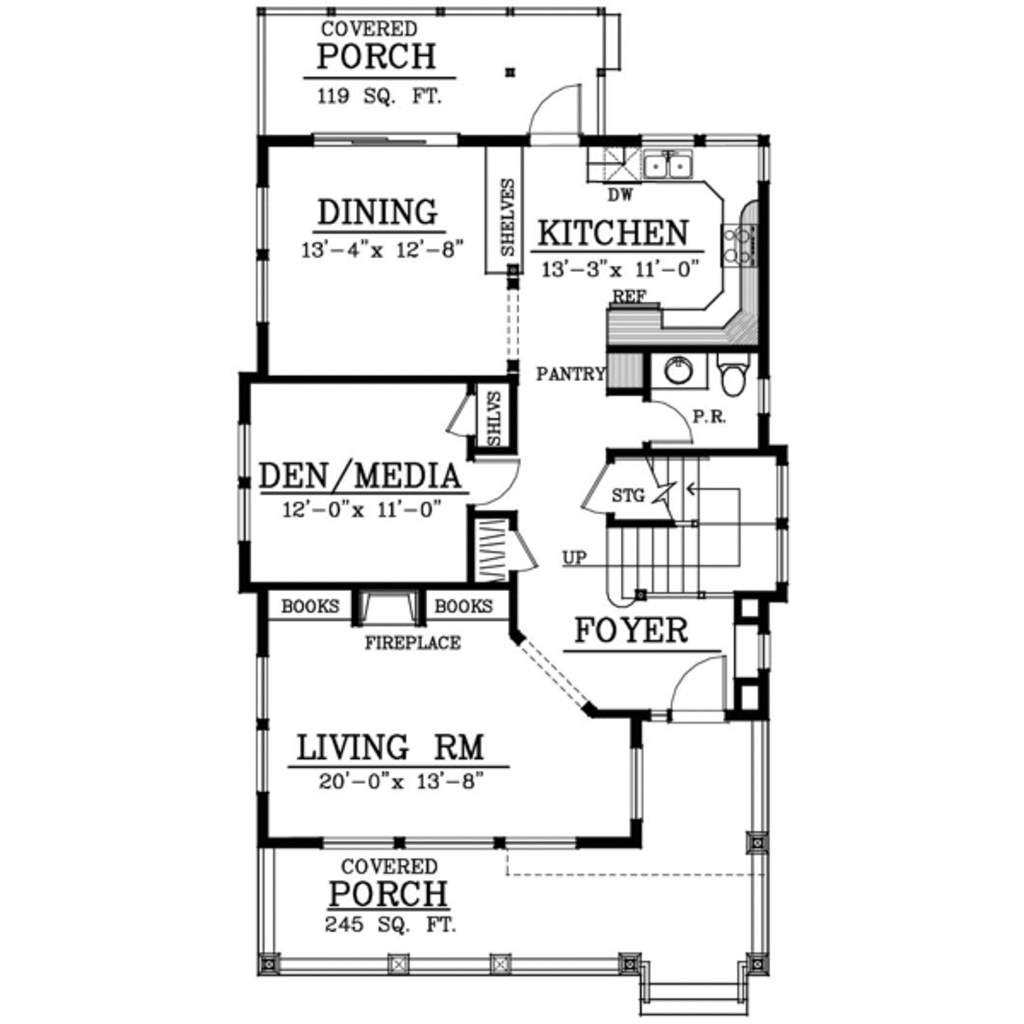door: (659, 644, 733, 727), (511, 87, 586, 143), (579, 465, 640, 517), (637, 400, 695, 446), (467, 455, 522, 501), (441, 390, 483, 439), (503, 528, 543, 574)
large_sink: (708, 349, 757, 403)
small_sink: (652, 355, 706, 393)
stairs: (602, 447, 770, 608)
twin_sink: (635, 144, 700, 184)
window: (319, 832, 573, 855), (249, 655, 273, 792), (233, 416, 256, 539), (254, 190, 268, 322), (624, 743, 646, 824), (645, 135, 764, 147)
